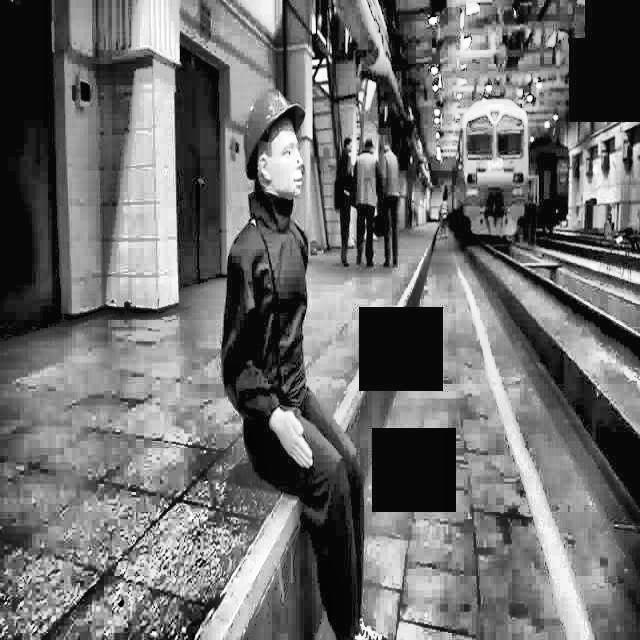safety_helmet: (246, 85, 306, 177)
safety_jacket: (354, 152, 379, 212)
